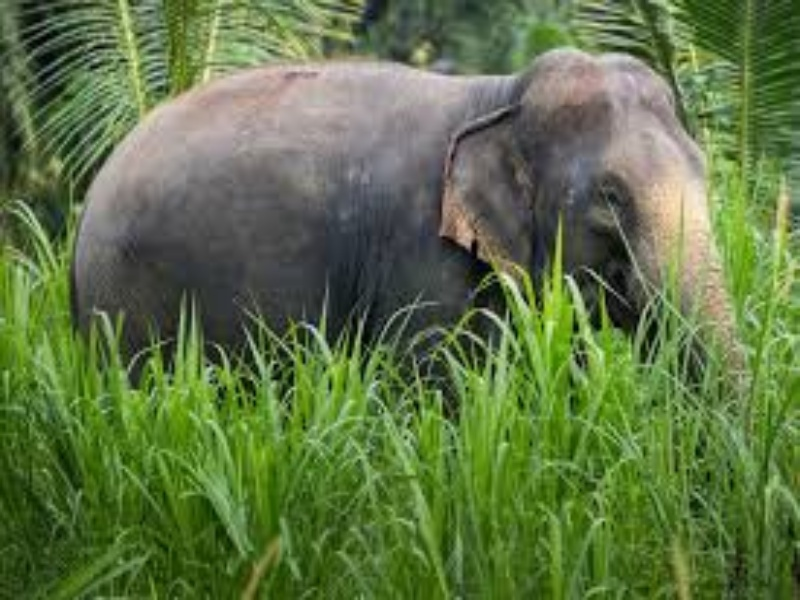elephant: (37, 27, 771, 482)
